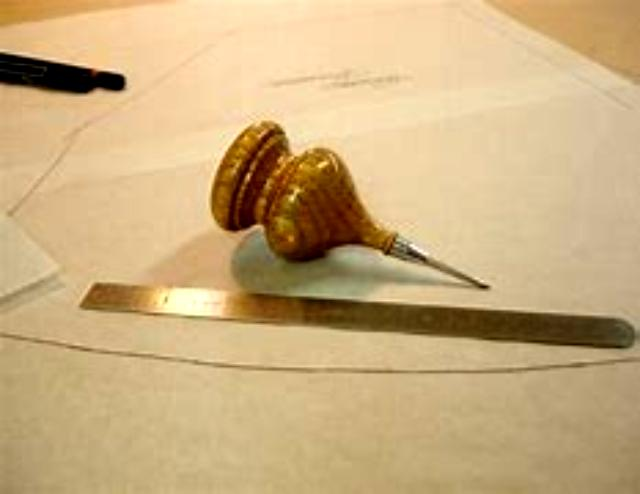ice pick: (204, 124, 486, 296)
